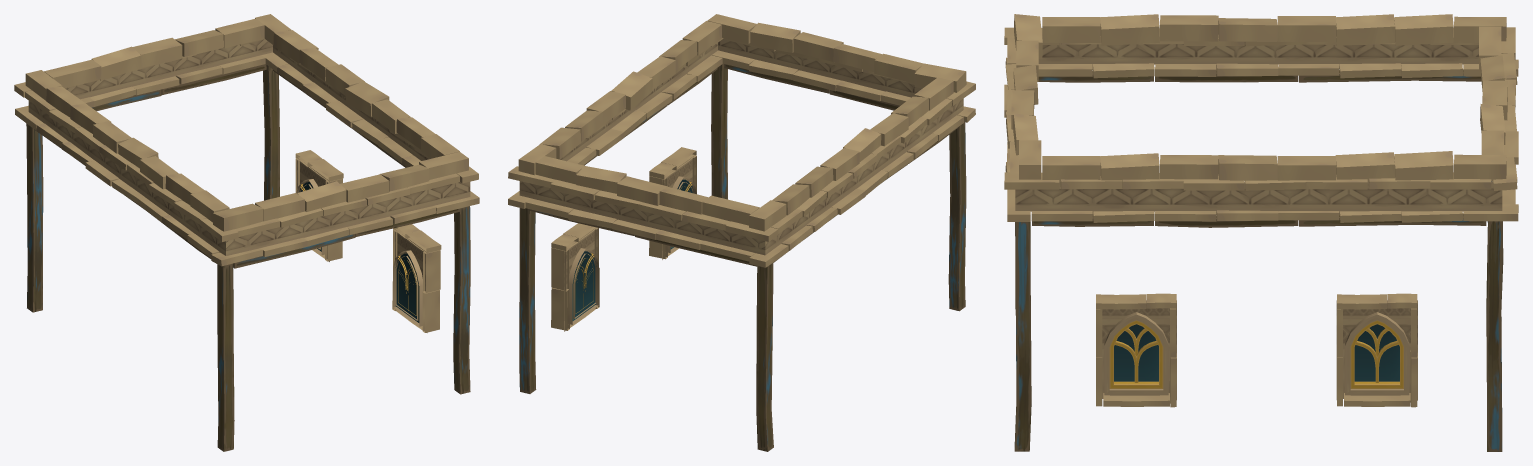
File: A_Medium_BuildingBlock_A_KitPart.FBX
3 renders of one model, left to right at view 1: azimuth 30°, elevation 25°; view 2: azimuth 150°, elevation 25°; view 3: azimuth 270°, elevation 25°, orthographic. The views are drawn at different scales.
Visible parts, largest first — view 1: A_Medium_BuildingBlock_A_KitPart; view 2: A_Medium_BuildingBlock_A_KitPart; view 3: A_Medium_BuildingBlock_A_KitPart.
Part boxes in pixels (x1,y1,x2,y2): A_Medium_BuildingBlock_A_KitPart: (14, 14, 479, 451); A_Medium_BuildingBlock_A_KitPart: (508, 14, 975, 451); A_Medium_BuildingBlock_A_KitPart: (1004, 14, 1518, 451).
Size of the model in its own units: 543 by 468 by 753.
Materials: 1 (1 with a texture image).
